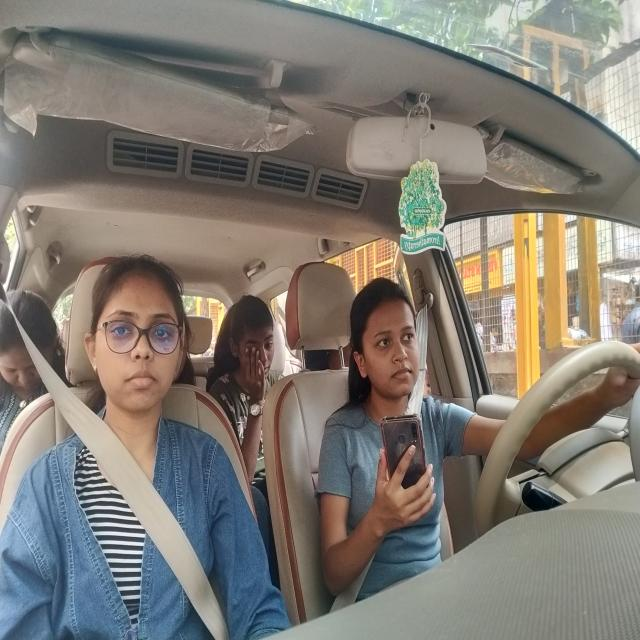mobile: (379, 412, 431, 508)
person: (84, 256, 187, 424), (349, 276, 424, 399), (0, 285, 65, 403), (227, 289, 280, 395)
